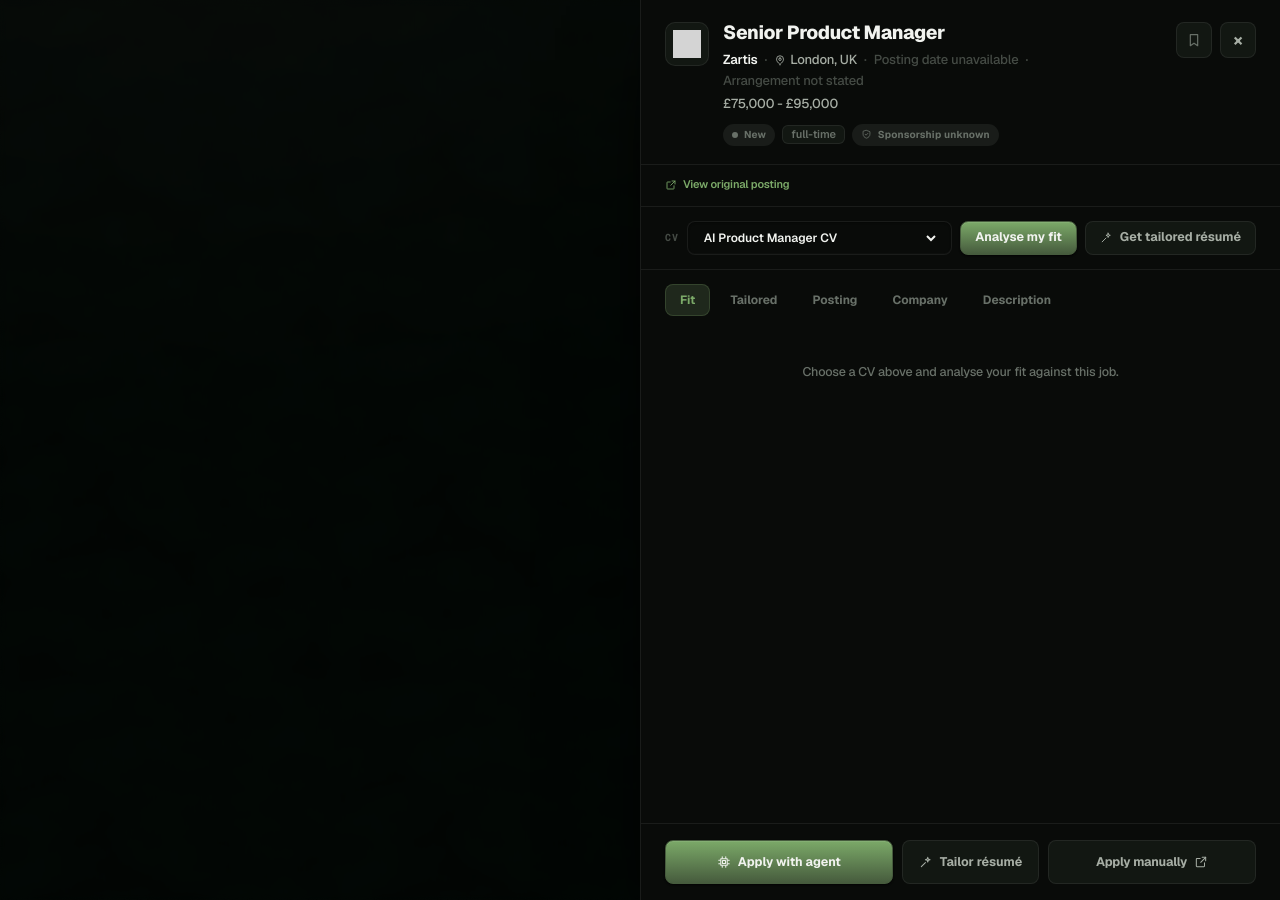
Test: JobDrawer as the decision centre › runs the analysis against the selected CV and shows the breakdown
Click the button "Analyse my fit" at (1019,238), box [960, 221, 1077, 255]
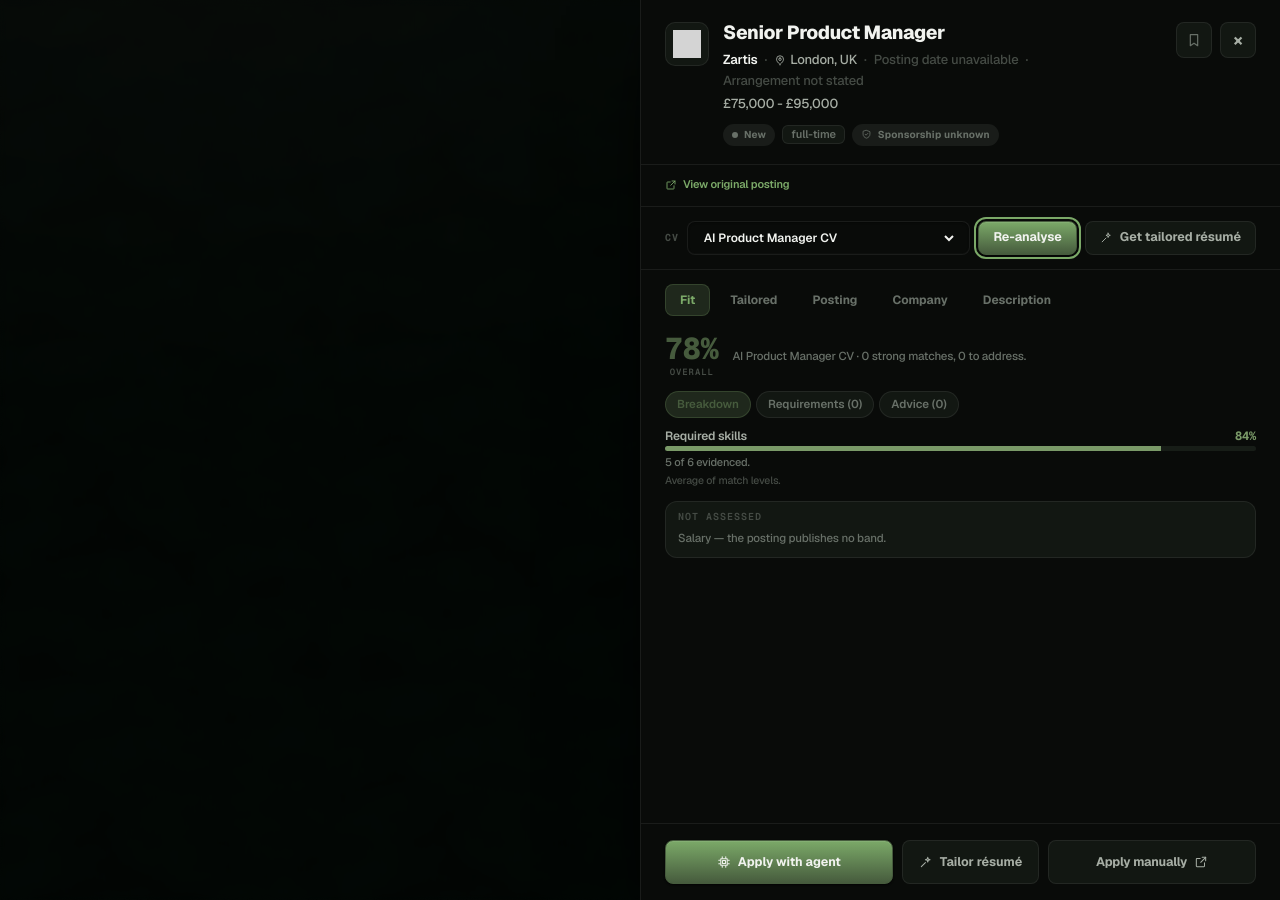
Result: the text "78%" is shown at [665, 334, 718, 364]
Result: the text "Required skills" is shown at [665, 430, 747, 442]
